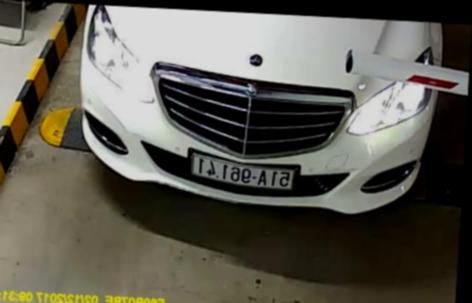License_Plate: (189, 154, 298, 192)
